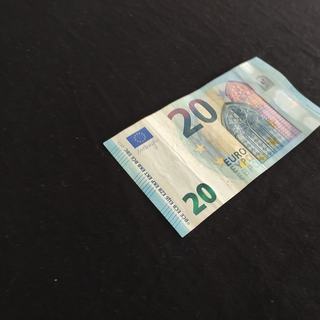20EUROFront: (102, 56, 320, 237)
